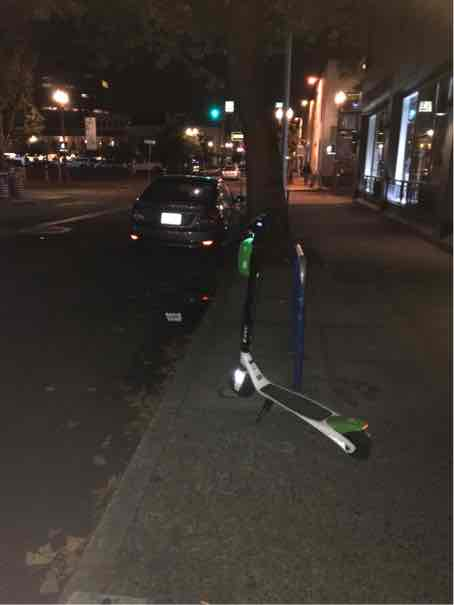scooter: (207, 207, 375, 465)
